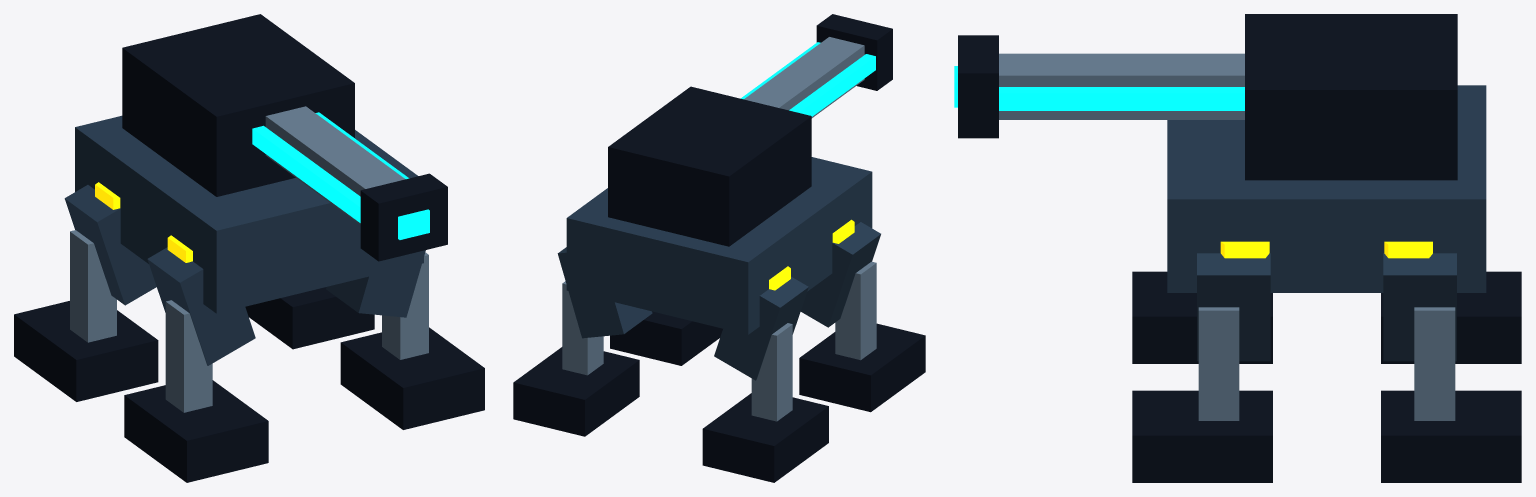
Rendered from walker_low.glb.
3 renders of one model, left to right at view 1: azimuth 30°, elevation 25°; view 2: azimuth 150°, elevation 25°; view 3: azimuth 270°, elevation 25°, orthographic. The views are drawn at different scales.
Visible parts, largest first — view 1: Siege hull, Turret, Siege foot.001, Siege foot.003, Siege foot, Muzzle collar, Railgun, Upper leg armor.001, Siege foot.002, Upper leg armor, Lower piston.001, Lower piston (+4 smaller); view 2: Siege hull, Turret, Siege foot.002, Siege foot, Siege foot.001, Railgun, Upper leg armor, Siege foot.003, Upper leg armor.001, Lower piston, Lower piston.001, Muzzle collar (+3 smaller); view 3: Siege hull, Turret, Siege foot.003, Siege foot.002, Railgun, Accelerator rail.001, Siege foot, Siege foot.001, Upper leg armor.003, Upper leg armor.002, Lower piston.002, Lower piston.003 (+3 smaller).
Boxes of the visible parts, x1=… form: Siege hull: x1=75, y1=115, x2=423, y2=313; Turret: x1=122, y1=14, x2=354, y2=196; Siege foot.001: x1=124, y1=380, x2=268, y2=482; Siege foot.003: x1=340, y1=327, x2=484, y2=429; Siege foot: x1=14, y1=301, x2=158, y2=401; Muzzle collar: x1=360, y1=173, x2=447, y2=261; Railgun: x1=265, y1=106, x2=405, y2=224; Upper leg armor.001: x1=147, y1=247, x2=255, y2=365; Siege foot.002: x1=245, y1=287, x2=374, y2=349; Upper leg armor: x1=64, y1=185, x2=156, y2=305; Lower piston.001: x1=165, y1=300, x2=212, y2=412; Lower piston: x1=70, y1=230, x2=116, y2=342; Siege hull: x1=566, y1=157, x2=872, y2=334; Turret: x1=608, y1=86, x2=811, y2=246; Siege foot.002: x1=513, y1=347, x2=639, y2=436; Siege foot: x1=702, y1=393, x2=828, y2=482; Siege foot.001: x1=799, y1=323, x2=925, y2=412; Railgun: x1=744, y1=37, x2=864, y2=118; Upper leg armor: x1=714, y1=276, x2=808, y2=380; Siege foot.003: x1=610, y1=311, x2=722, y2=365; Upper leg armor.001: x1=800, y1=222, x2=880, y2=327; Lower piston: x1=751, y1=323, x2=792, y2=421; Lower piston.001: x1=835, y1=261, x2=876, y2=360; Muzzle collar: x1=816, y1=14, x2=892, y2=90; Siege hull: x1=1167, y1=85, x2=1486, y2=292; Turret: x1=1245, y1=14, x2=1457, y2=180; Siege foot.003: x1=1132, y1=390, x2=1272, y2=482; Siege foot.002: x1=1381, y1=390, x2=1521, y2=482; Railgun: x1=999, y1=53, x2=1244, y2=119; Accelerator rail.001: x1=999, y1=87, x2=1244, y2=110; Siege foot: x1=1381, y1=271, x2=1521, y2=363; Siege foot.001: x1=1132, y1=271, x2=1272, y2=363; Upper leg armor.003: x1=1197, y1=253, x2=1270, y2=361; Upper leg armor.002: x1=1383, y1=253, x2=1456, y2=361; Lower piston.002: x1=1414, y1=307, x2=1455, y2=420; Lower piston.003: x1=1198, y1=307, x2=1239, y2=420.
Size of the model in its own units: 2.37 by 2.35 by 3.47.
